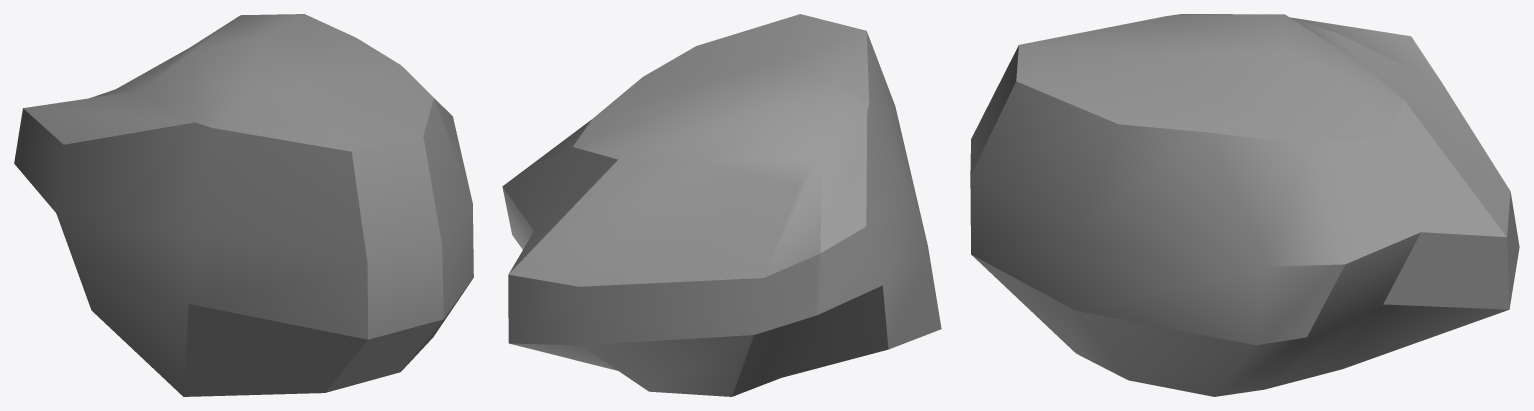
Rendered from rock_2.fbx.
The picture shows the model from 3 angles, left to right: view 1: azimuth 30°, elevation 25°; view 2: azimuth 150°, elevation 25°; view 3: azimuth 270°, elevation 25°; orthographic projection. The views are drawn at different scales.
Parts seen in each view (by area): view 1: rock_2; view 2: rock_2; view 3: rock_2.
Part boxes in pixels (x1,y1,x2,y2): rock_2: [14, 14, 473, 396]; rock_2: [502, 14, 941, 396]; rock_2: [970, 14, 1519, 396].
Bounding box in the file's own units: 218 × 151 × 257.
